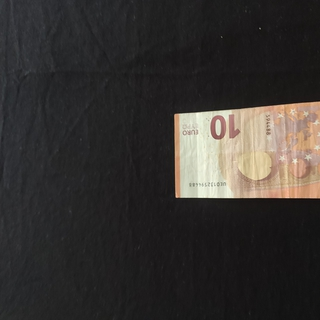10EUROBack: (173, 98, 320, 199)
